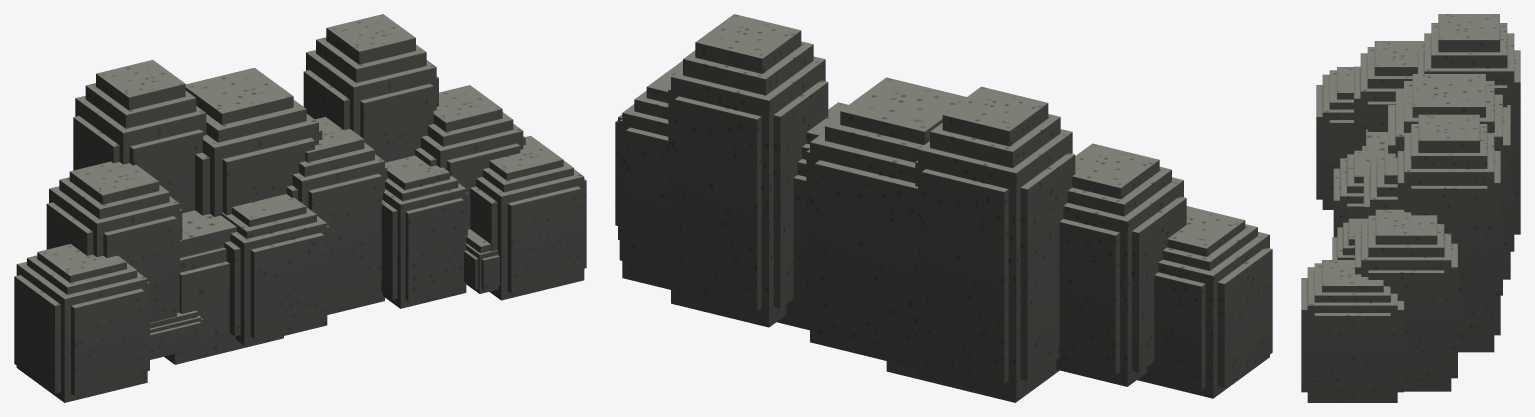
Rendered from Bukit.fbx.
3 renders of one model, left to right at view 1: azimuth 30°, elevation 25°; view 2: azimuth 150°, elevation 25°; view 3: azimuth 270°, elevation 25°, orthographic. The views are drawn at different scales.
Parts seen in each view (by area): view 1: Bukit; view 2: Bukit; view 3: Bukit.
Part boxes in pixels (box(x1,y1,x2,y2)): Bukit: box(14, 14, 586, 402); Bukit: box(615, 14, 1272, 402); Bukit: box(1301, 14, 1520, 402).
Bounding box in the file's own units: 2001 × 872 × 774.
1 material, 1 textured.
